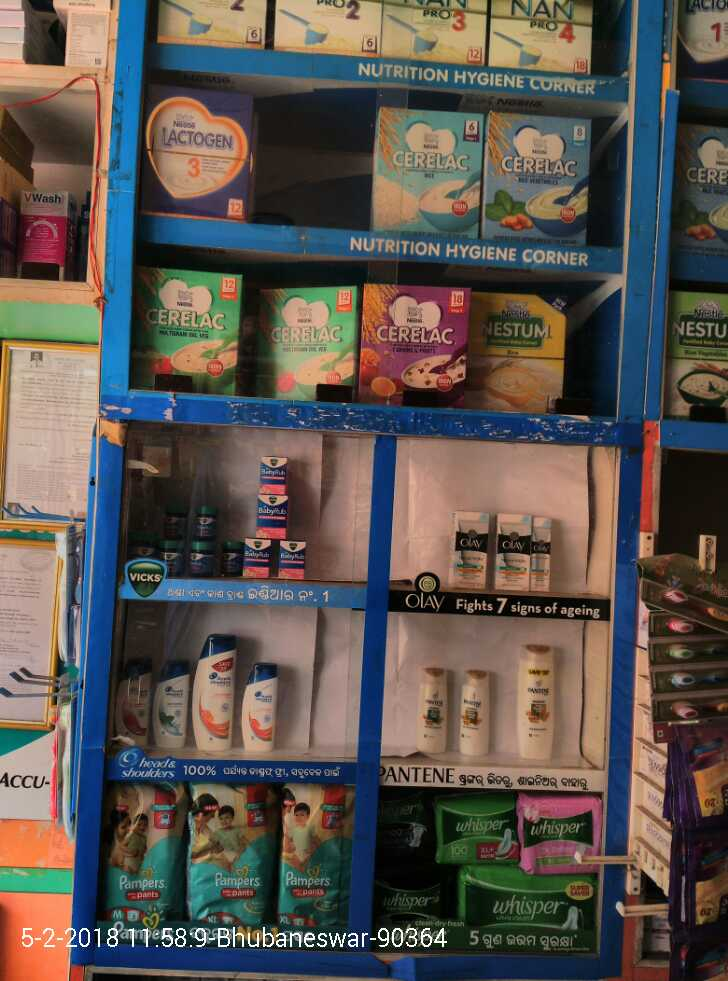beauty: (450, 869, 605, 941), (512, 642, 561, 765), (189, 631, 233, 755), (441, 507, 500, 589), (240, 650, 282, 759), (146, 654, 191, 755), (450, 672, 499, 764), (486, 509, 534, 592), (113, 662, 153, 747), (412, 664, 448, 748)
pharmacy: (136, 455, 309, 586), (188, 775, 284, 923), (103, 764, 184, 930), (281, 783, 344, 926), (516, 788, 602, 873), (431, 790, 522, 862)
